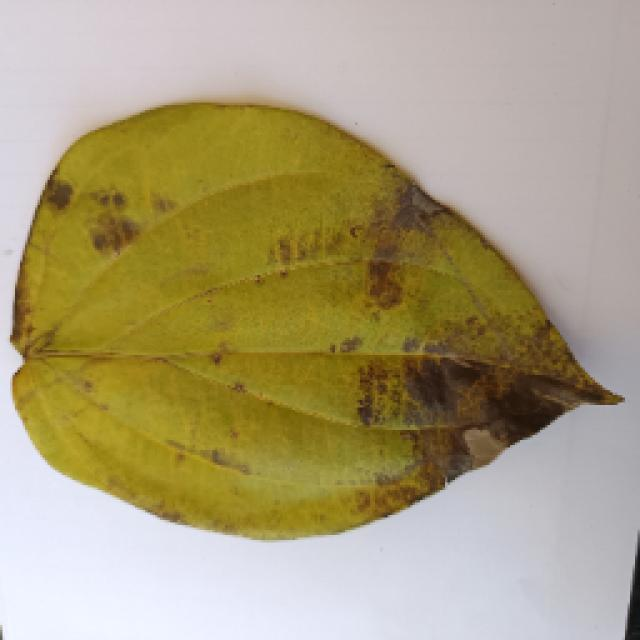slow-decline: (10, 102, 615, 532)
